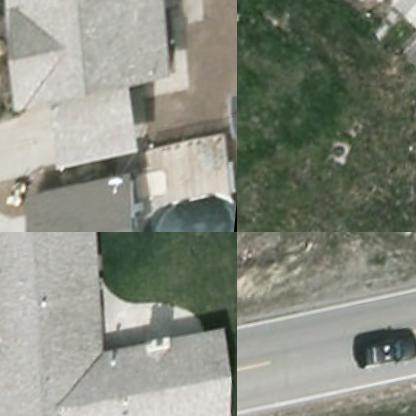car: (357, 333, 415, 375)
